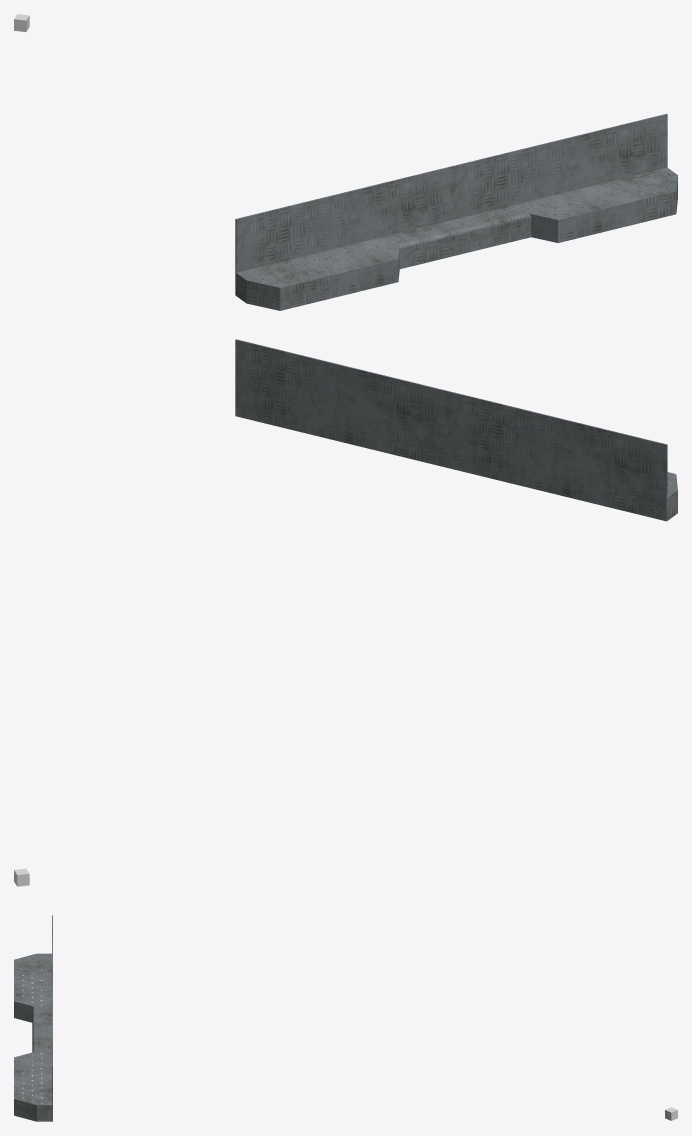
The model's file is RAM 2500HD CC 696j Hitch Recess Bumper.glb.
The picture shows the model from 3 angles, top to bottom: view 1: azimuth 30°, elevation 25°; view 2: azimuth 150°, elevation 25°; view 3: azimuth 270°, elevation 25°; orthographic projection. The views are drawn at different scales.
Visible parts, largest first — view 1: Geom3D; view 2: Geom3D; view 3: Geom3D.
Boxes of the visible parts, <box> form: Geom3D: <box>235,114,677,310</box>; Geom3D: <box>235,339,677,521</box>; Geom3D: <box>14,915,52,1121</box>.
Bounding box in the file's own units: 1.98 × 0.7757 × 3.67.
Materials: 2 (1 with a texture image).
